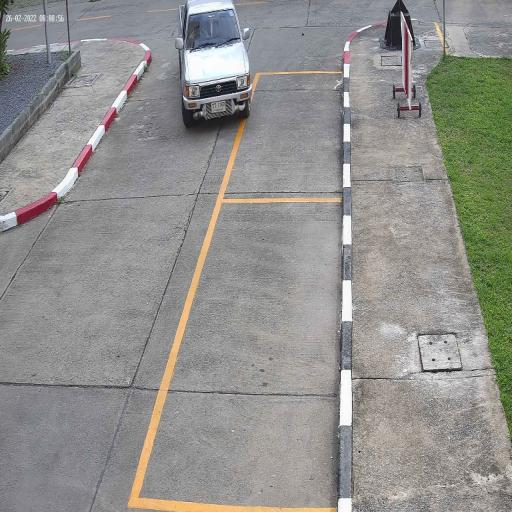car: (175, 0, 254, 129)
